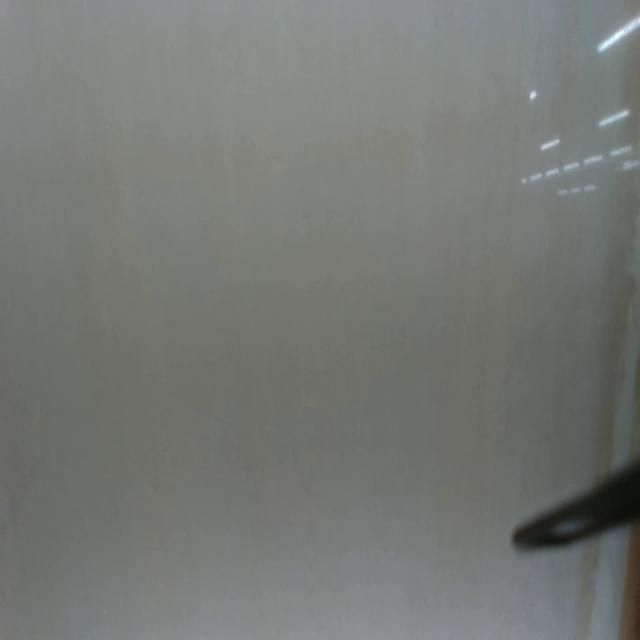color bleeding: (612, 529, 640, 640)
